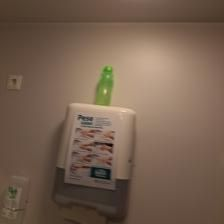bottle: (91, 62, 115, 108)
